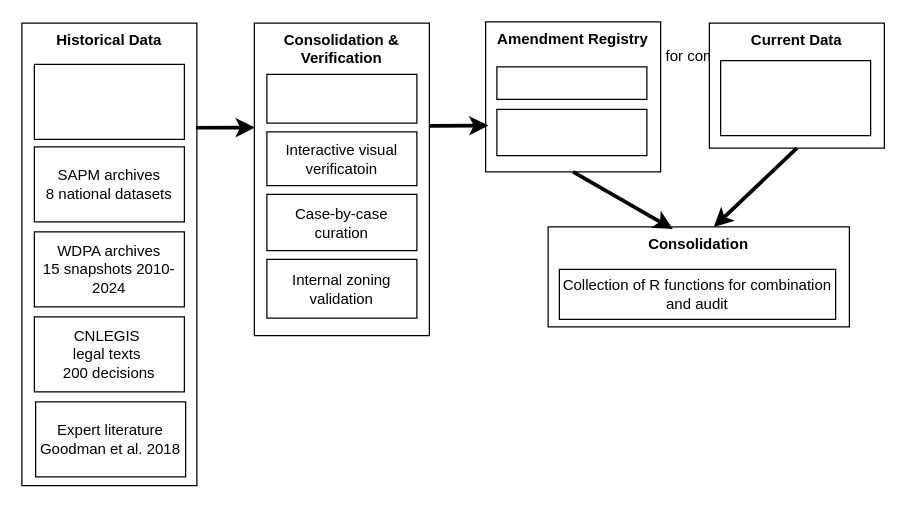
Image size: 906x508. Some labels were removed from this diagram. The centre of each missing label's shape, as x and y in pixels:
"Cross-source matching" belongs at (341,98).
"GeoJSON geometries" belongs at (571,132).
"WDPA Up-to-date version at generation time" belongs at (795,97).
"WDPA working reference Oct. 2025" belongs at (108,101).
"YAML files" belongs at (571,82).
